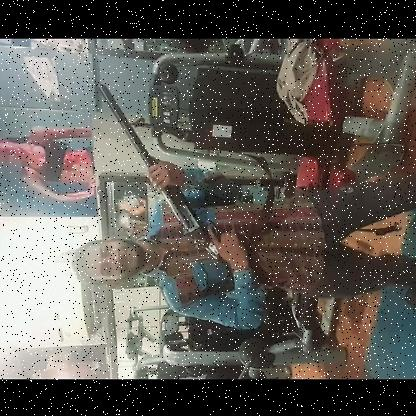rifle: (96, 81, 238, 268)
